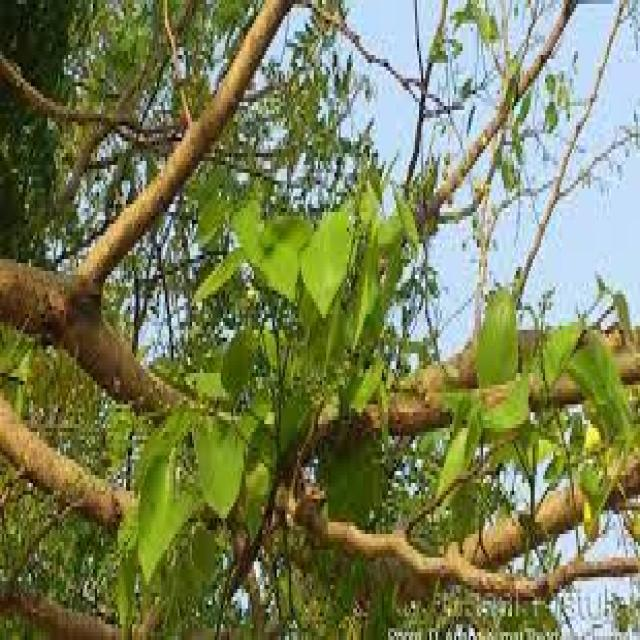Amaltas: (173, 110, 440, 436), (416, 248, 640, 597), (104, 394, 344, 640)
